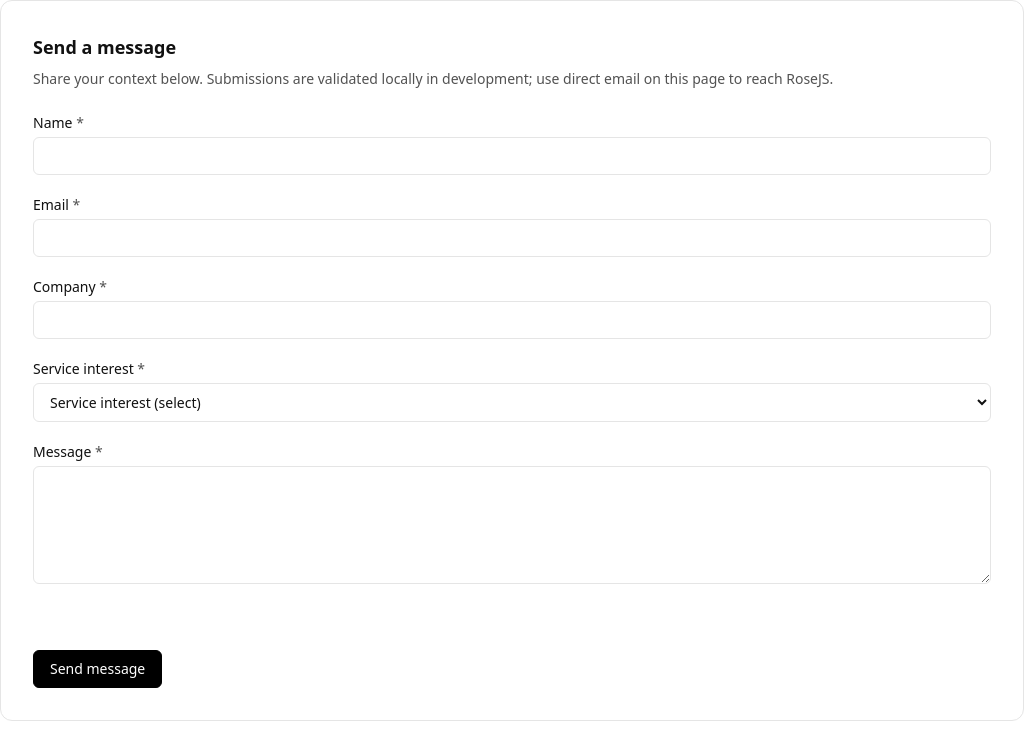
Test: ContactForm › shows validation errors when required fields are missing
Click the button "Send message" at (98, 669), box [33,650,162,688]
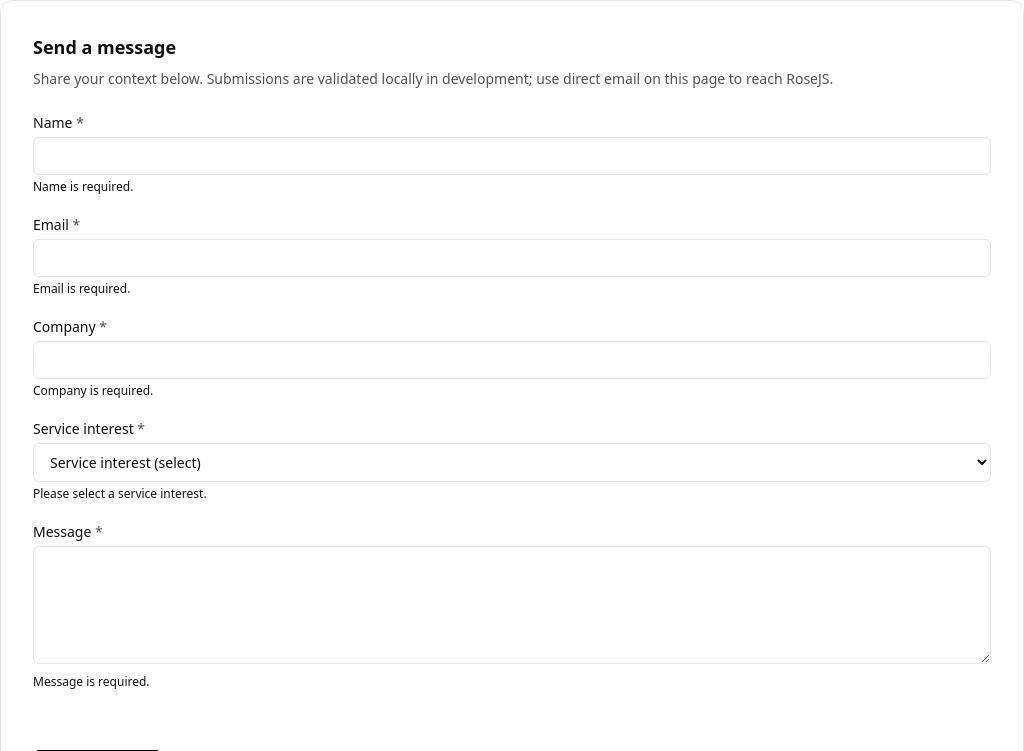
Now the text "Name is required." is shown, box [33,178,133,195]
Now the text "Email is required." is shown, box [33,280,130,297]
Now the text "Company is required." is shown, box [33,382,153,399]
